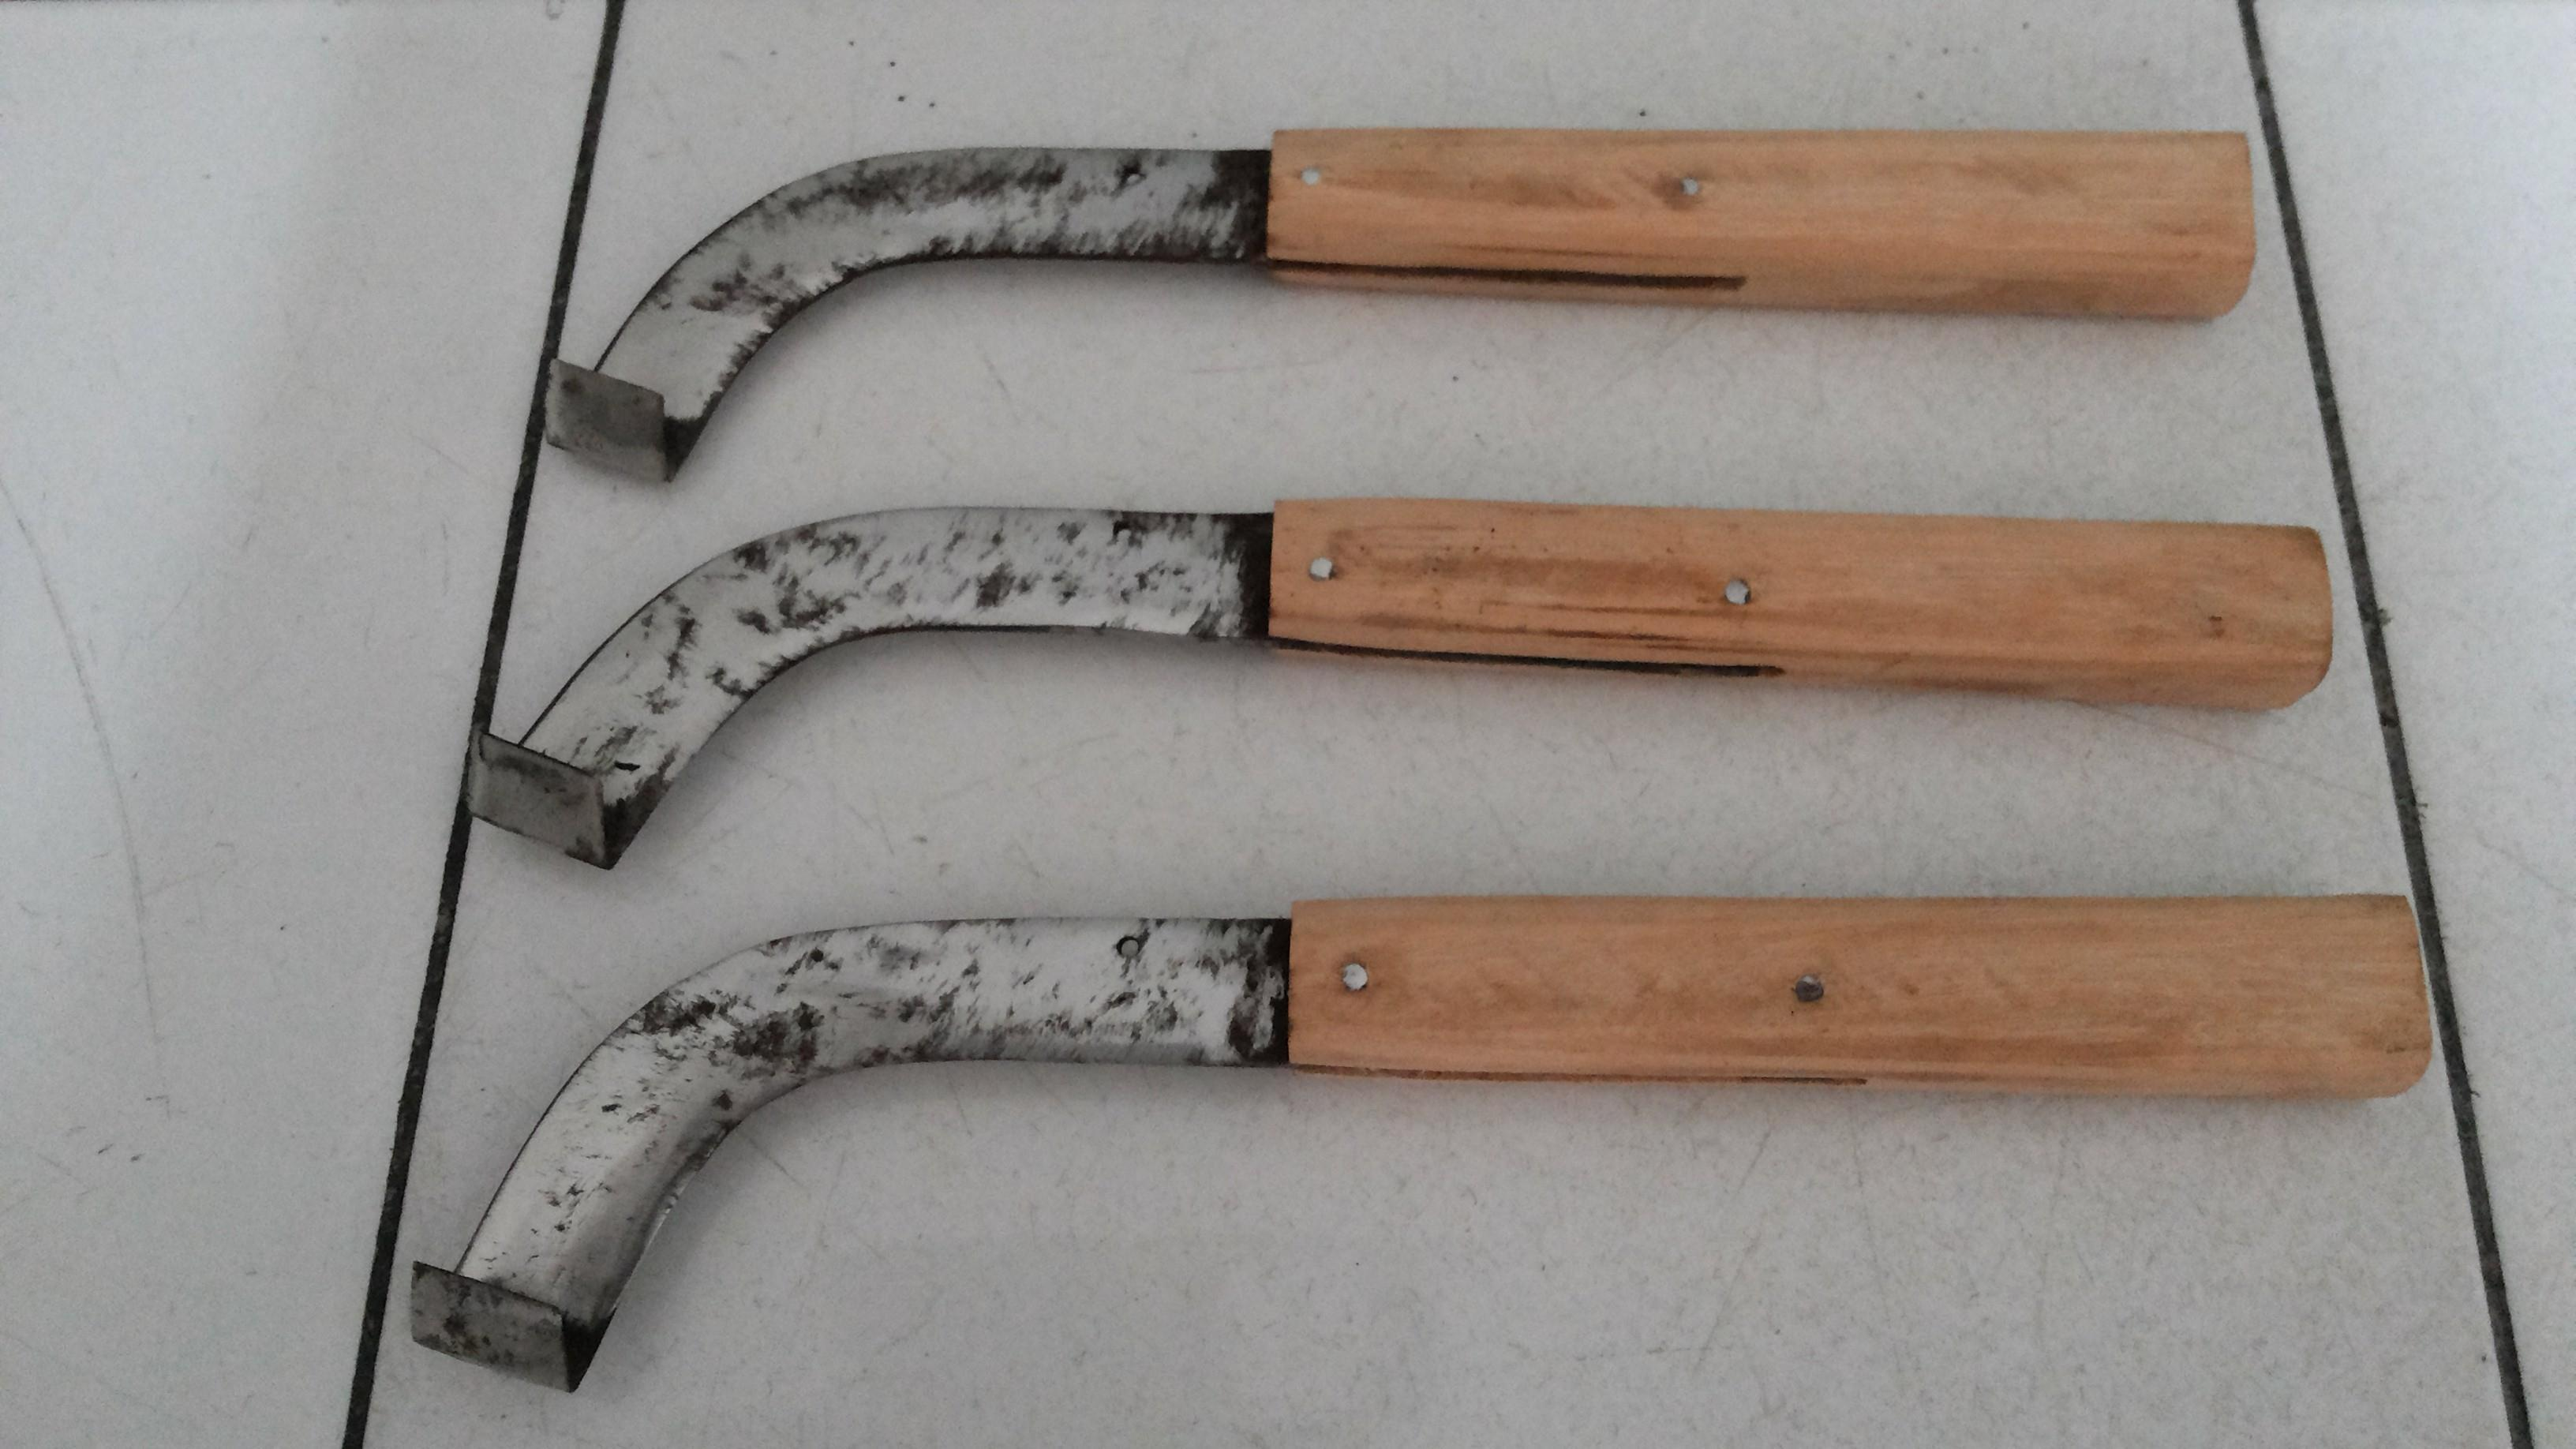foice: (395, 895, 2436, 1394), (460, 499, 2335, 872), (541, 131, 2263, 478)
